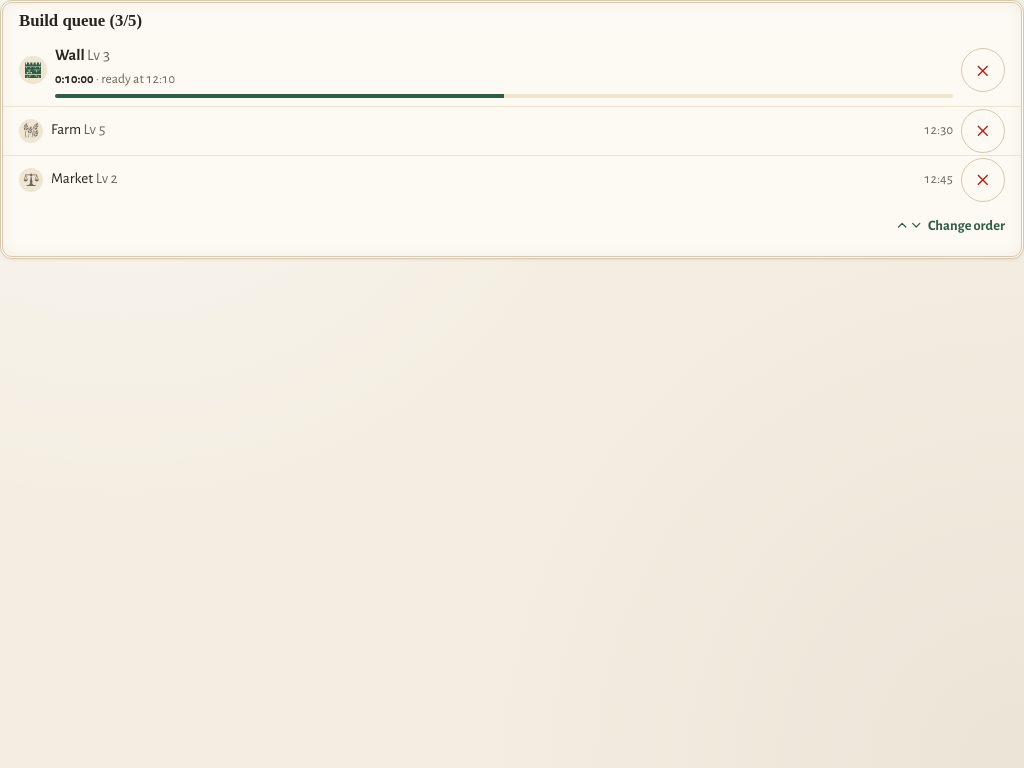
Test: BuildQueueCard › gives the focus back to the pressed button when the move fails
The width and height of the screenshot is (1024, 768).
Click the button "Change order" at x=950, y=226, box 887,204 -> 1013,248
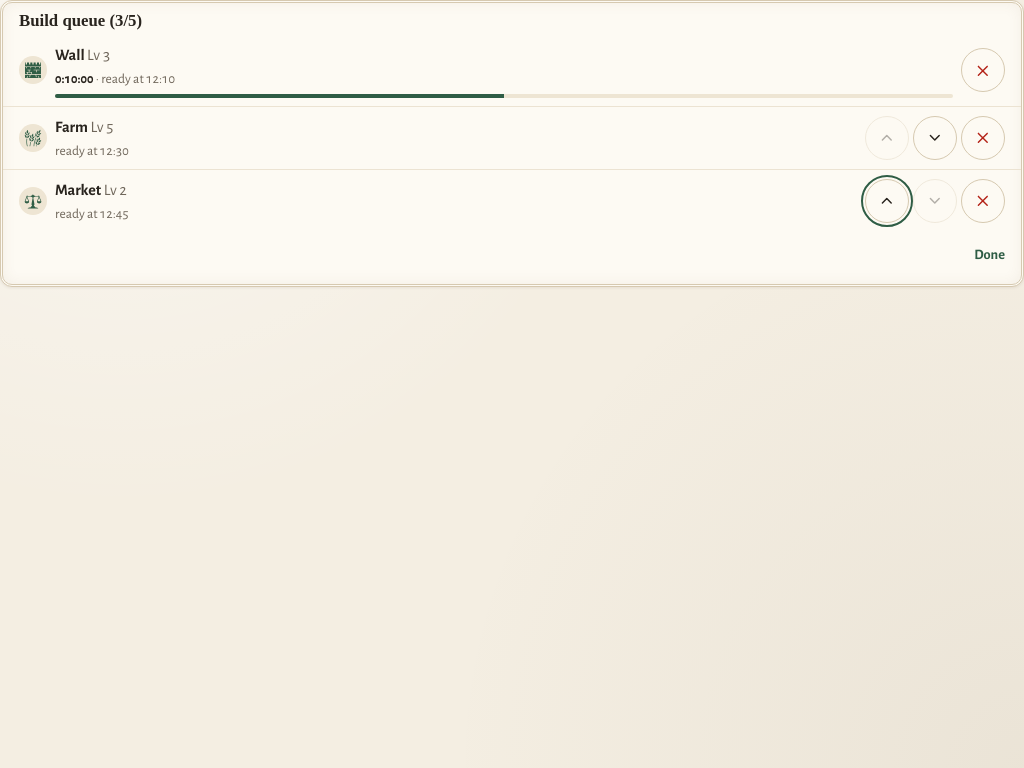
Click the button named "Move Market Lv 2 up" at x=887, y=201, box 865,179 -> 909,223
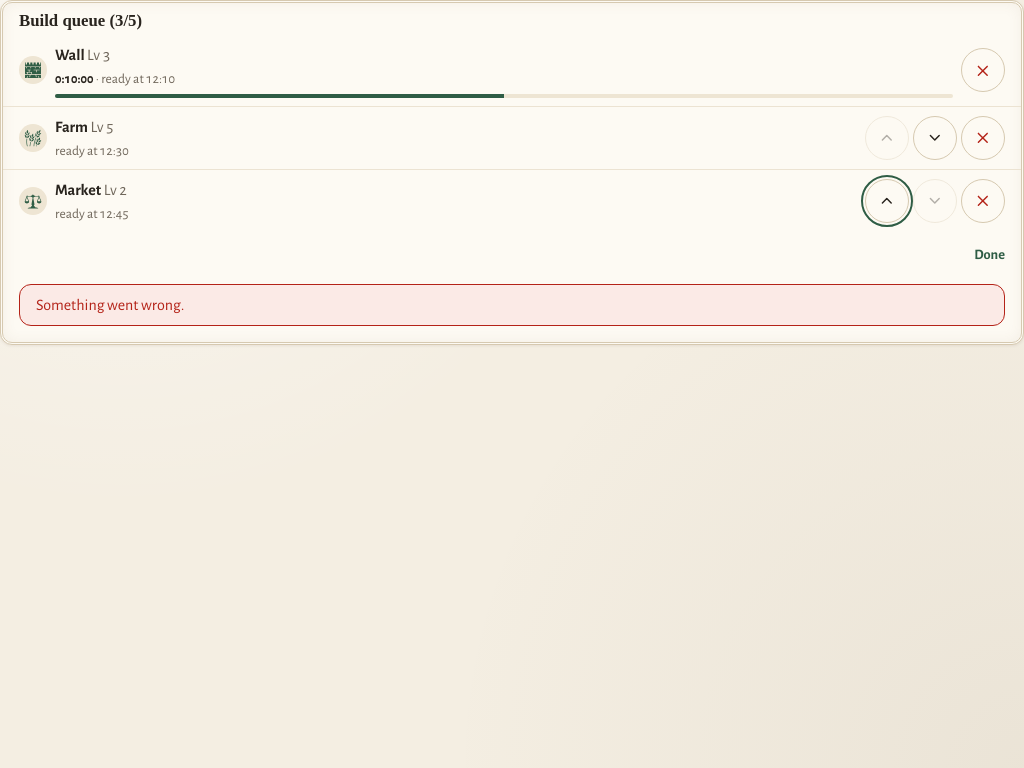
expect the message "Something went wrong." is shown: met, box 19,284 -> 1005,326
